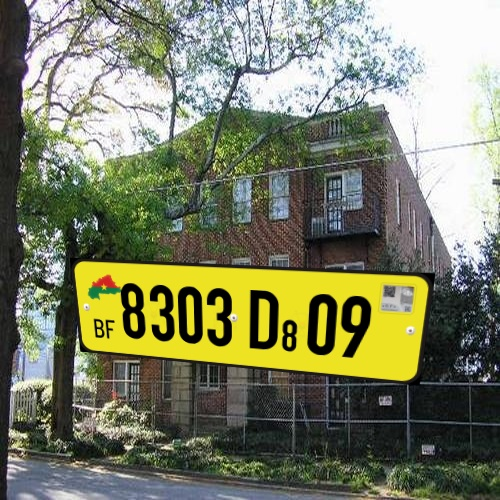plate: (52, 232, 438, 397)
